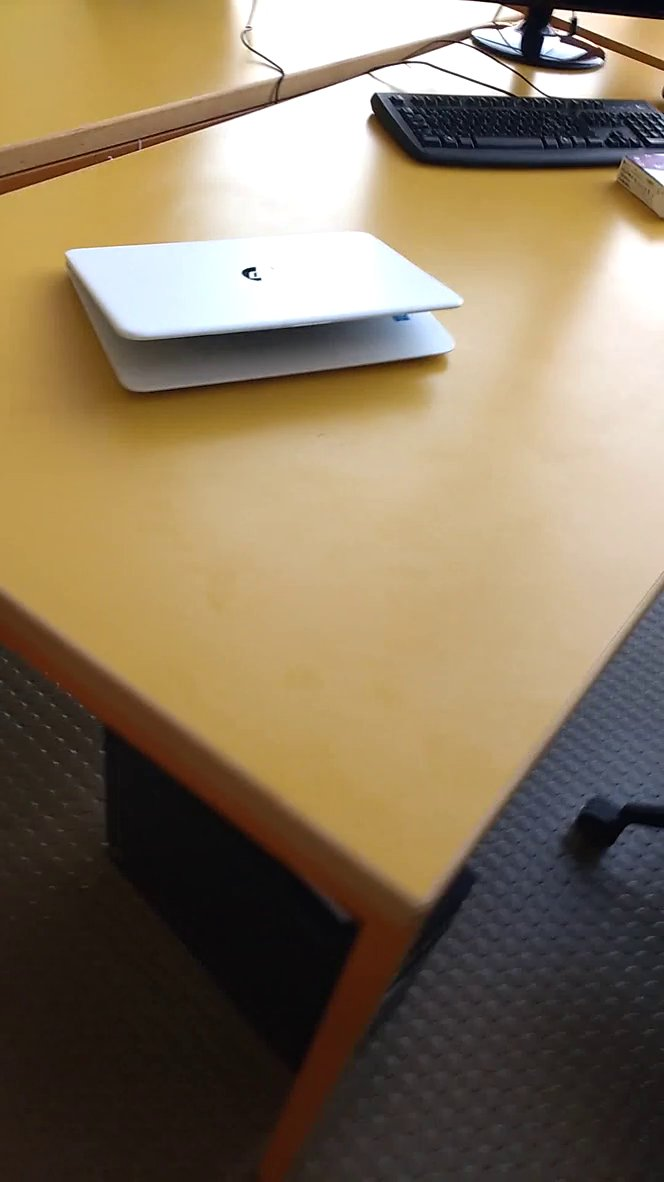laptop: (58, 214, 482, 419)
